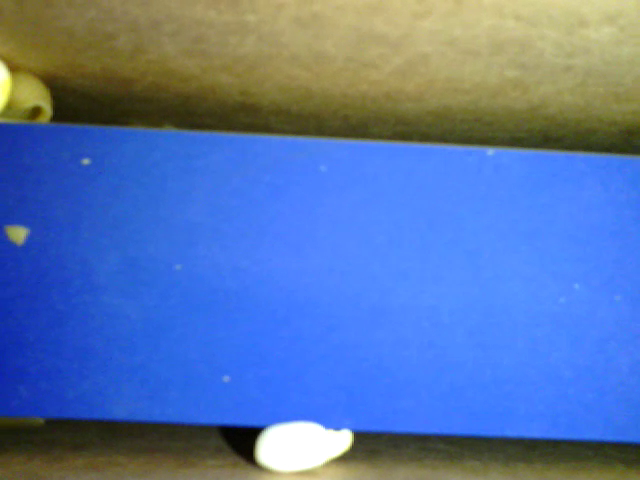shell: (1, 70, 56, 128)
